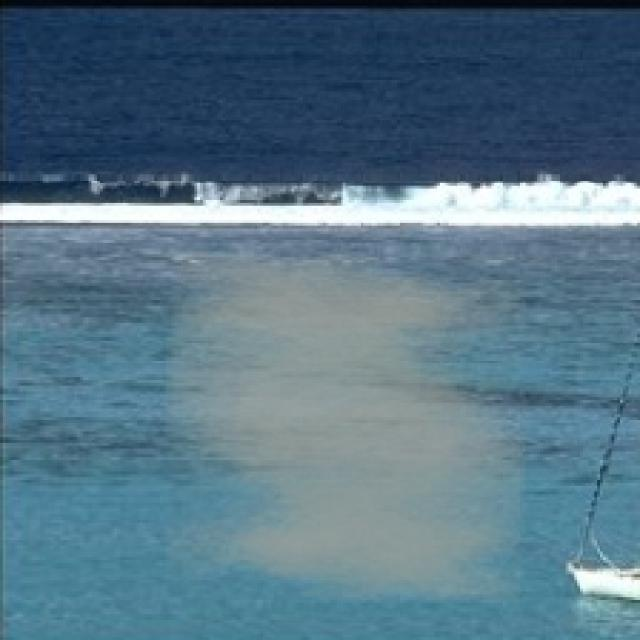Smoke: (165, 251, 526, 603)
